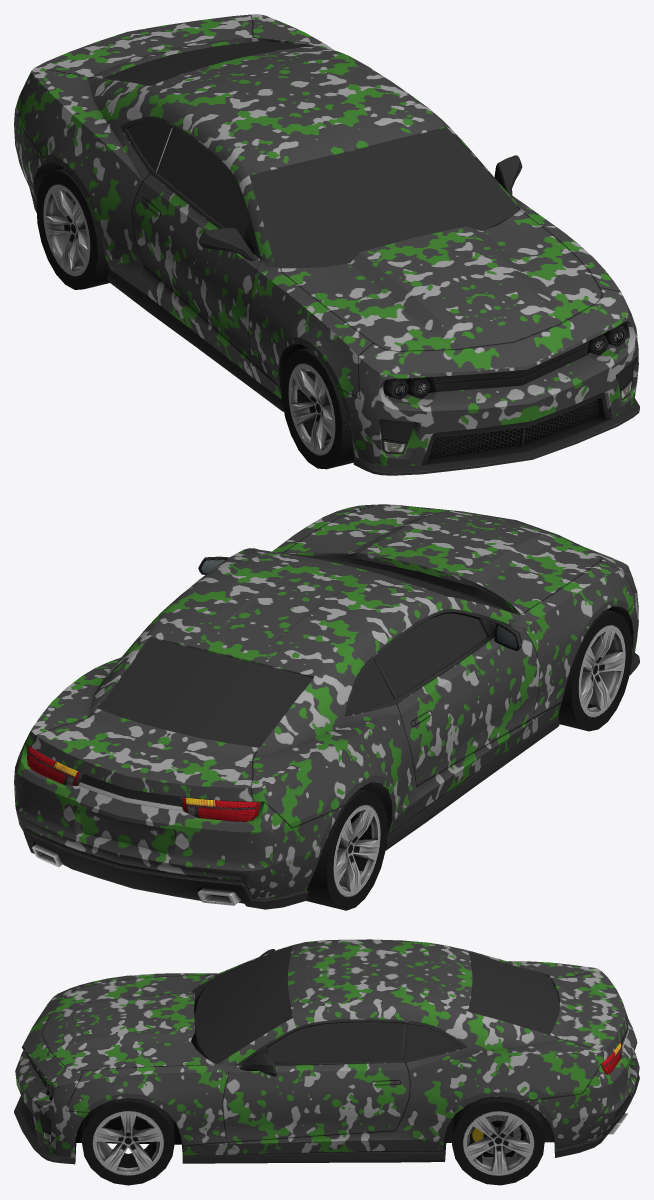
Rendered from car_1.FBX.
The picture shows the model from 3 angles, top to bottom: view 1: azimuth 30°, elevation 25°; view 2: azimuth 150°, elevation 25°; view 3: azimuth 270°, elevation 25°; orthographic projection. The views are drawn at different scales.
Visible parts, largest first — view 1: Body_4, Matte_3, Wheel_R, Wheel_Back_R; view 2: Body_4, Matte_3, Wheel_Back_R, Wheel_R, Taillights_3; view 3: Body_4, Matte_3, Wheel_Back_L, Wheel_L.
Part boxes in pixels (<box>): Body_4: <box>14,14,638,466</box>; Matte_3: <box>29,117,639,475</box>; Wheel_R: <box>281,348,354,469</box>; Wheel_Back_R: <box>36,168,109,289</box>; Body_4: <box>14,504,638,898</box>; Matte_3: <box>23,556,639,909</box>; Wheel_Back_R: <box>306,789,387,910</box>; Wheel_R: <box>558,609,632,731</box>; Taillights_3: <box>27,745,262,821</box>; Body_4: <box>15,939,639,1157</box>; Matte_3: <box>14,949,639,1164</box>; Wheel_Back_L: <box>452,1096,544,1185</box>; Wheel_L: <box>82,1098,174,1185</box>.
Size of the model in its own units: 2.15 by 1.36 by 4.77.
Materials: 2 (2 with a texture image).
